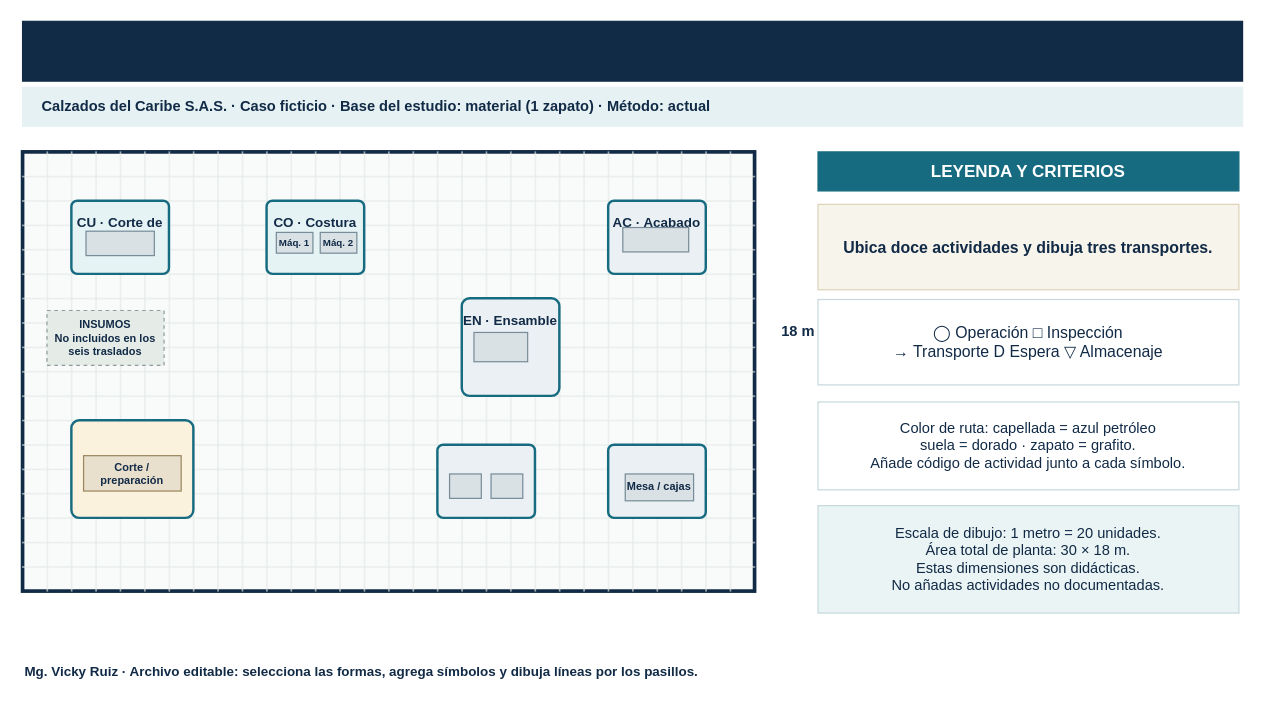
The diagram is 1264 pixels wide and 714 high, and some of its shapes have lost their labels. Here are the shapes that lost their labels. From the top down, the box of each, then its label:
(21, 20, 1243, 81): LABORATORIO 4 | DIAGRAMA DE RECORRIDO | 03 Desde ensamble
(85, 230, 154, 256): Mesa de corte
(622, 226, 689, 252): Pulido
(473, 331, 528, 362): Prensa
(70, 418, 194, 518): SU · Corte y preparación de suela
(436, 443, 536, 518): PT · Producto terminado
(606, 443, 706, 518): EM · Empaque
(302, 595, 486, 623): ← 30 m →
